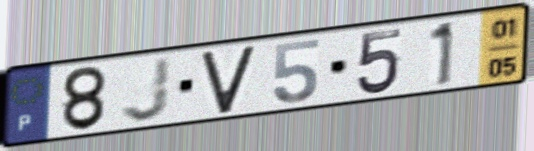1: (426, 19, 457, 88)
5: (353, 26, 406, 95), (270, 36, 321, 106)
8: (60, 64, 109, 132)
J: (118, 55, 174, 125)
V: (198, 42, 259, 117)
